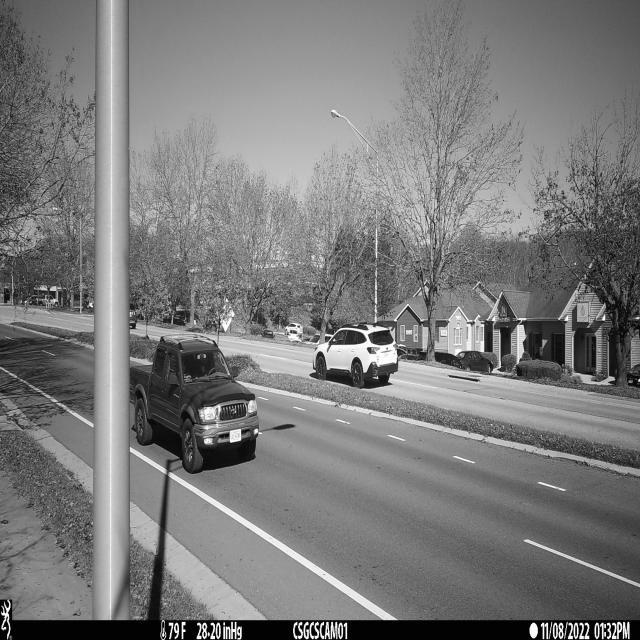Pickup: (130, 334, 259, 474)
